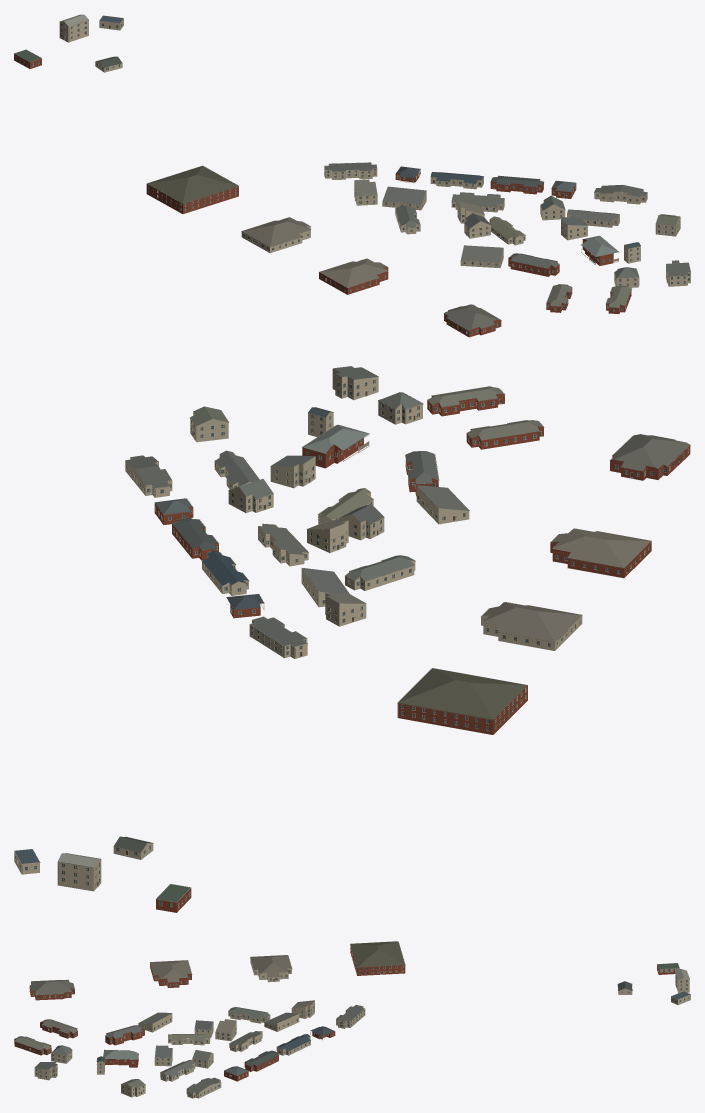
3 renders of one model, top to bottom at view 1: azimuth 30°, elevation 25°; view 2: azimuth 150°, elevation 25°; view 3: azimuth 270°, elevation 25°, orthographic. The views are drawn at different scales.
Visible parts, largest first — view 1: -1_5_599061756_0, -1_5_603141834_3; view 2: -1_5_599061756_0, -1_5_603141834_3; view 3: -1_5_599061756_0, -1_5_603141834_3.
Boxes of the visible parts, x1,y1,x2,y2 form: -1_5_599061756_0: (14,14,690,337); -1_5_603141834_3: (59,19,690,287); -1_5_599061756_0: (14,366,690,912); -1_5_603141834_3: (14,369,582,891); -1_5_599061756_0: (14,941,690,1097); -1_5_603141834_3: (34,959,690,1098).
Size of the model in its own units: 271 by 18.49 by 528.
